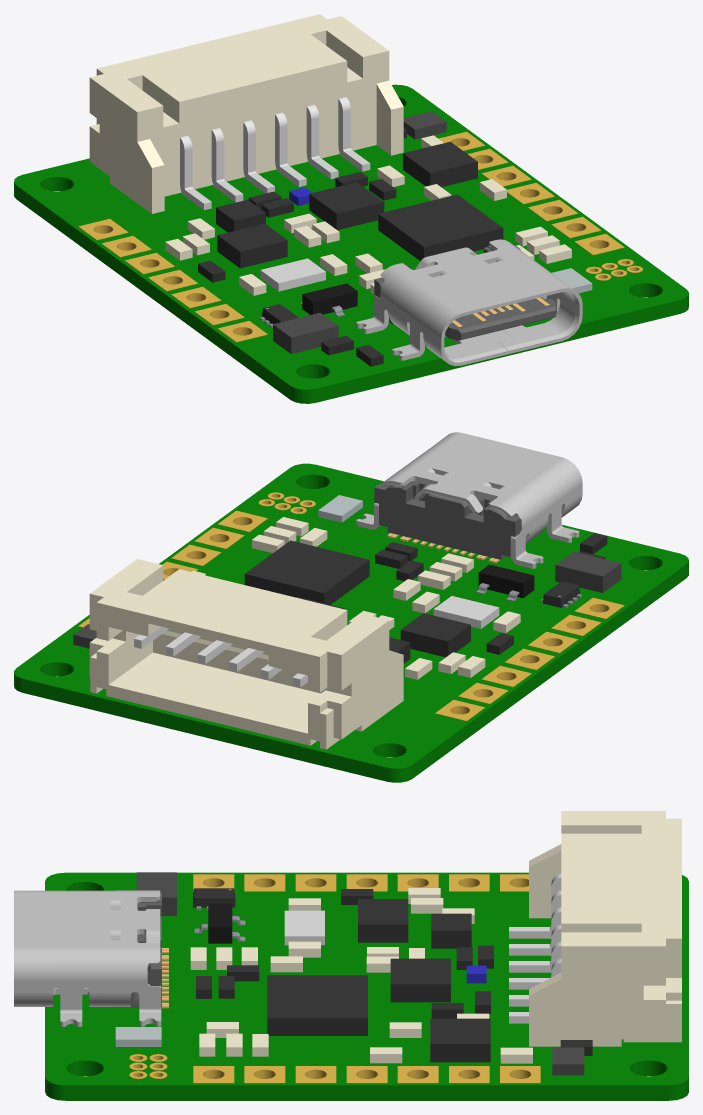
File: USB-3.obj
3 renders of one model, top to bottom at view 1: azimuth 30°, elevation 25°; view 2: azimuth 150°, elevation 25°; view 3: azimuth 270°, elevation 25°, orthographic. The views are drawn at different scales.
Parts seen in each view (by area): view 1: TSS-USBC_Suite; view 2: TSS-USBC_Suite; view 3: TSS-USBC_Suite.
Part boxes in pixels (x1=…): TSS-USBC_Suite: x1=14, y1=14, x2=688, y2=403; TSS-USBC_Suite: x1=14, y1=432, x2=688, y2=782; TSS-USBC_Suite: x1=14, y1=811, x2=688, y2=1100.
Size of the model in its own units: 0.025 by 0.00638 by 0.0335.
